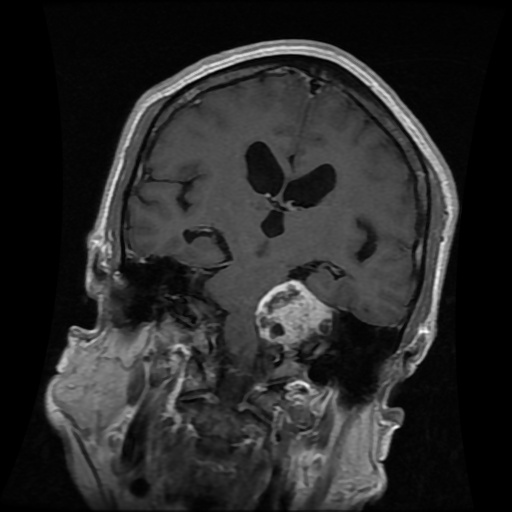meningioma: (256, 279, 331, 343)
